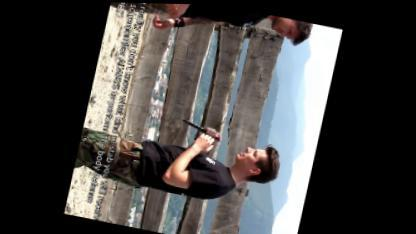knife: (178, 114, 226, 141)
